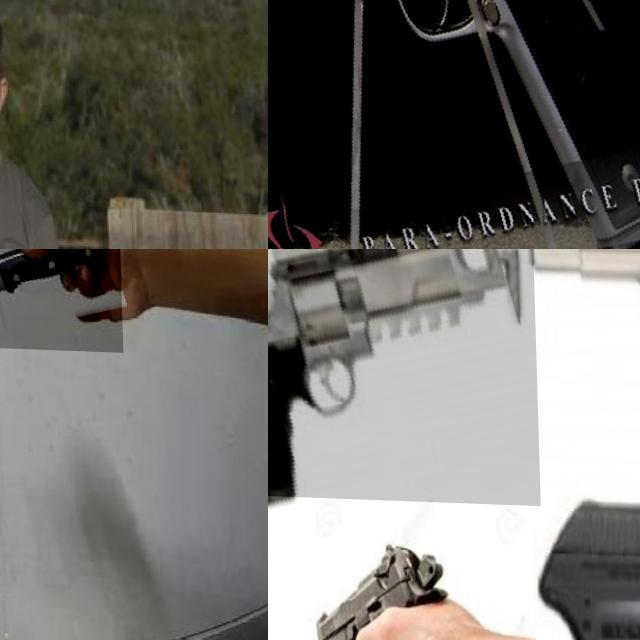-: (0, 249, 134, 349)
gun-knife-thesis - v11 Yolov5 augmented: (268, 0, 640, 249), (268, 249, 538, 503), (523, 249, 640, 488), (309, 526, 472, 640)
